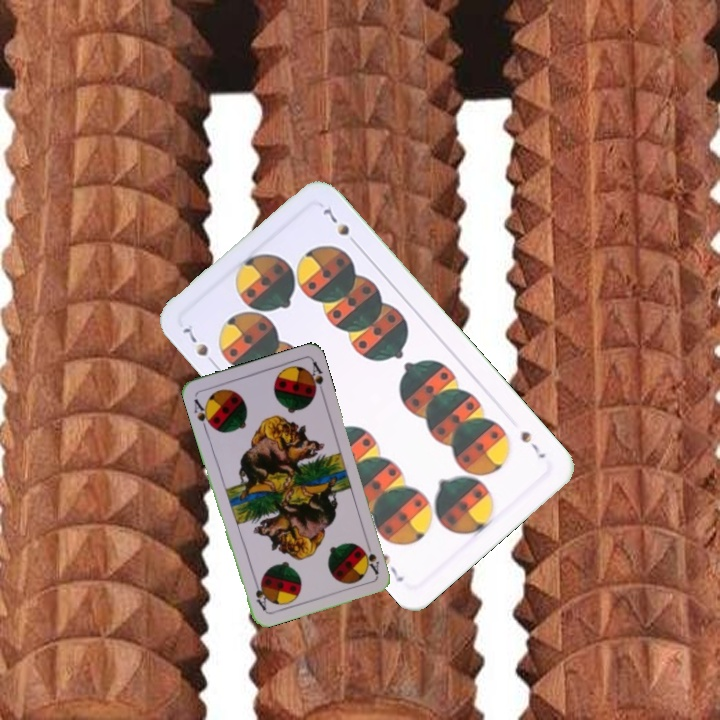S7: (178, 323, 220, 370), (516, 427, 549, 461)
SA: (357, 538, 382, 578), (190, 395, 215, 433)
